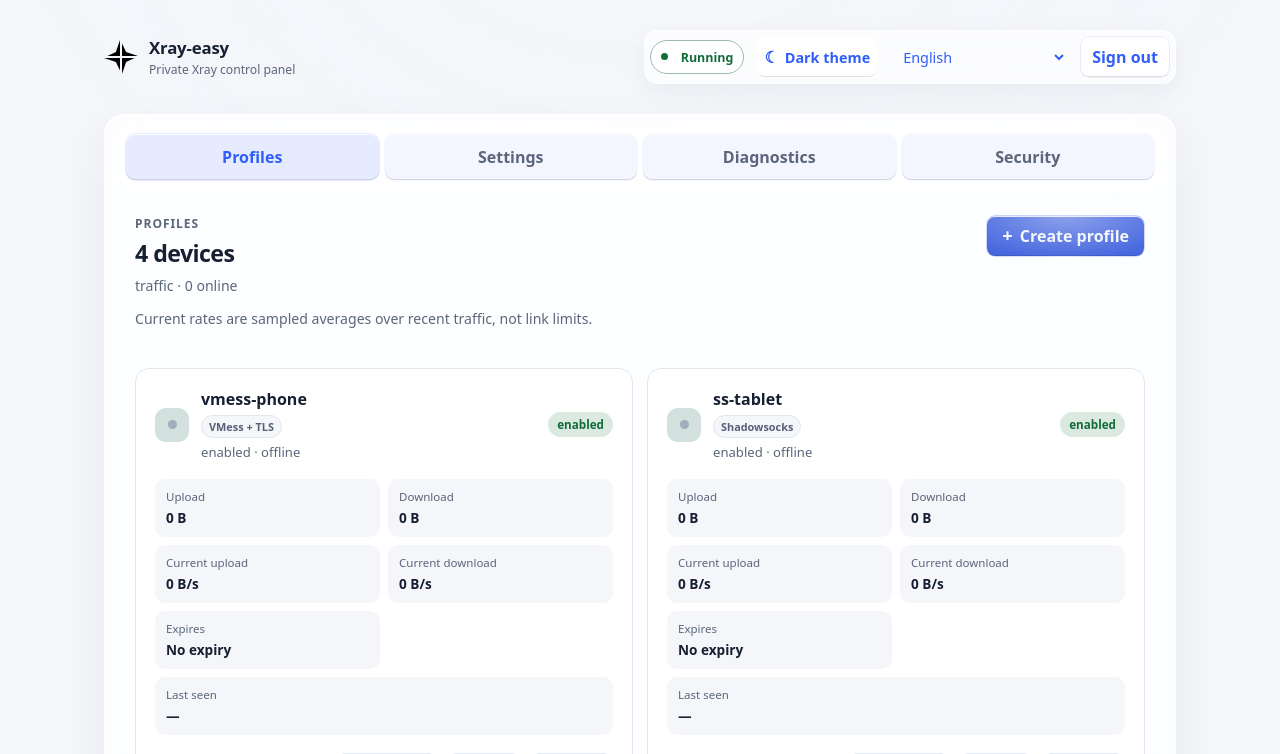
Test: App profile delivery actions › ignores queued event callbacks after signing out
What coordinates should you click on to do the following:
click the button with class "topbar-logout"
I would click on:
 (1125, 57)
Its box is [1080, 36, 1170, 78].
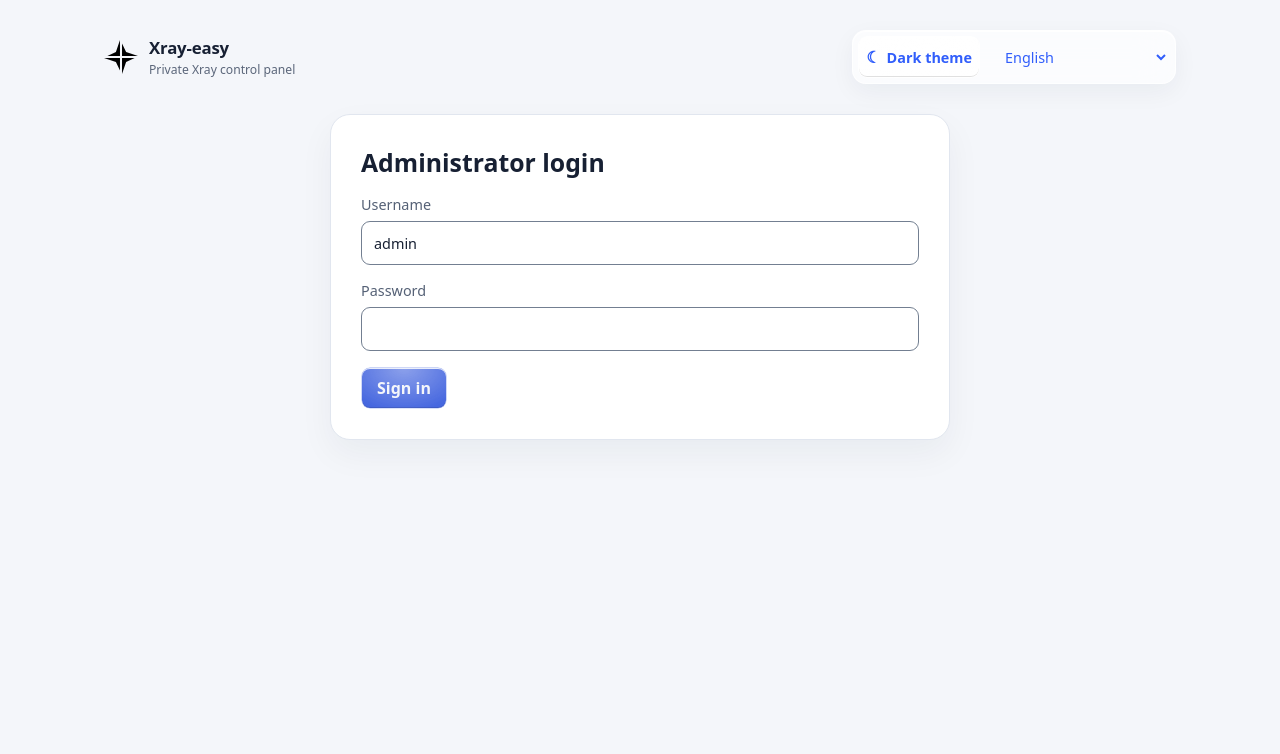
Now the form with class "auth-card" is shown, box [330, 114, 950, 440]
